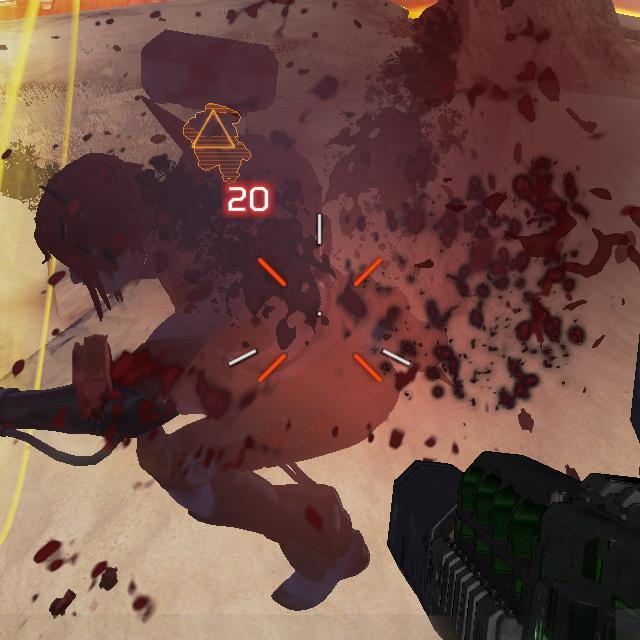avatar: (179, 99, 253, 186)
object: (188, 106, 236, 152)
